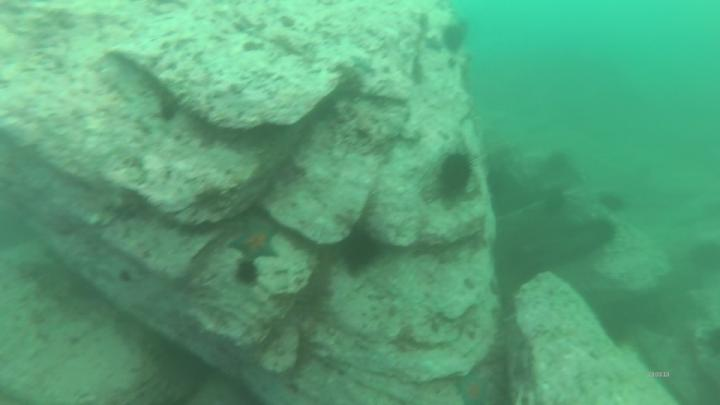echinus: (342, 231, 377, 267), (443, 155, 472, 195), (545, 186, 566, 213), (443, 24, 463, 51), (239, 263, 258, 284)
starfish: (232, 222, 279, 259)
